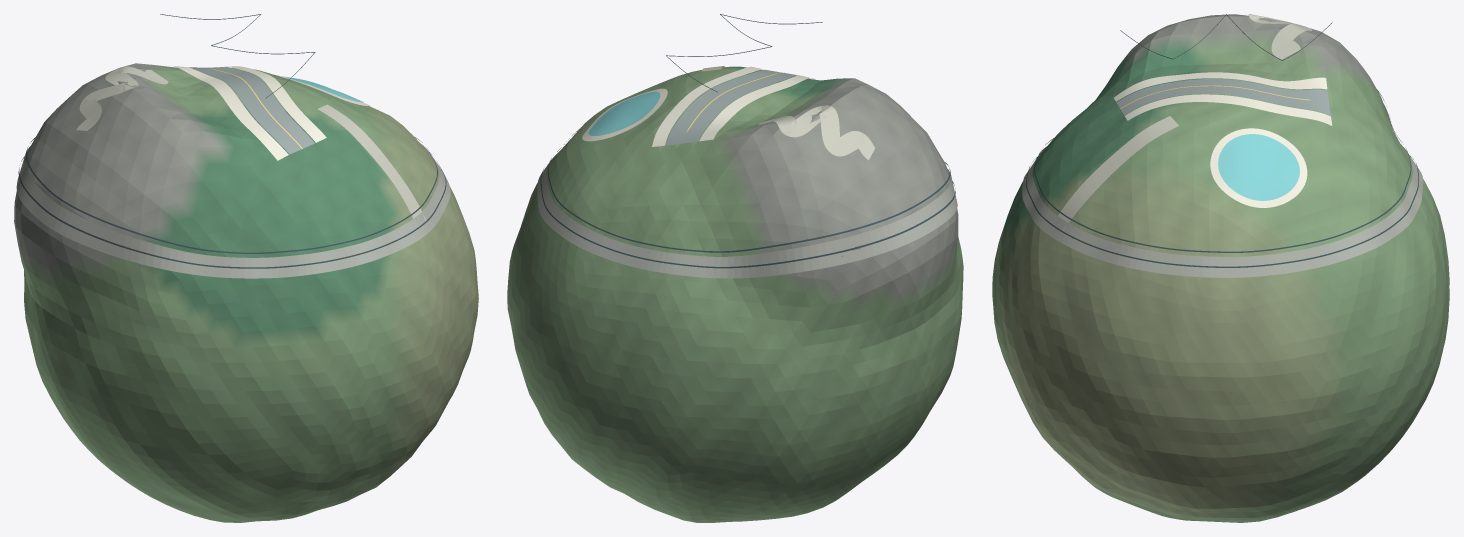
Rendered from nimbu_planet.glb.
3 renders of one model, left to right at view 1: azimuth 30°, elevation 25°; view 2: azimuth 150°, elevation 25°; view 3: azimuth 270°, elevation 25°, orthographic.
Parts seen in each view (by area): view 1: Nimbu_Nagar_Painterly_Planet, Rail_ballast, Neem_Lane, Devgarh_switchbacks, Station_Road, Neem_Lane_sidewalk_-1, Neem_Lane_sidewalk_1, Rail_left, Rail_right; view 2: Nimbu_Nagar_Painterly_Planet, Rail_ballast, Neem_Lane, Devgarh_switchbacks, Neel_Taal_water, Neem_Lane_sidewalk_1, Neem_Lane_sidewalk_-1, Rail_right, Rail_left, Neel_Taal_shore; view 3: Nimbu_Nagar_Painterly_Planet, Rail_ballast, Neel_Taal_water, Neem_Lane, Station_Road, Neel_Taal_shore, Neem_Lane_sidewalk_1, Neem_Lane_sidewalk_-1, Devgarh_switchbacks, Rail_left, Rail_right.
Part boxes in pixels (x1,y1,x2,y2): Nimbu_Nagar_Painterly_Planet: (14, 63, 478, 522); Rail_ballast: (16, 144, 450, 278); Neem_Lane: (188, 67, 314, 154); Devgarh_switchbacks: (76, 66, 168, 130); Station_Road: (318, 104, 426, 222); Neem_Lane_sidewalk_-1: (173, 66, 288, 160); Neem_Lane_sidewalk_1: (220, 66, 326, 142); Rail_left: (18, 153, 446, 268); Rail_right: (26, 137, 437, 253); Nimbu_Nagar_Painterly_Planet: (507, 66, 963, 522); Rail_ballast: (537, 139, 957, 278); Neem_Lane: (666, 70, 799, 145); Devgarh_switchbacks: (758, 105, 875, 160); Neel_Taal_water: (588, 91, 660, 135); Neem_Lane_sidewalk_1: (652, 66, 765, 146); Neem_Lane_sidewalk_-1: (699, 75, 815, 141); Rail_right: (548, 129, 950, 252); Rail_left: (540, 169, 955, 268); Neel_Taal_shore: (582, 88, 667, 141); Nimbu_Nagar_Painterly_Planet: (992, 14, 1449, 522); Rail_ballast: (1022, 103, 1423, 277); Neel_Taal_water: (1218, 134, 1299, 200); Neem_Lane: (1116, 79, 1330, 115); Station_Road: (1058, 116, 1178, 232); Neel_Taal_shore: (1210, 128, 1307, 207); Neem_Lane_sidewalk_1: (1125, 94, 1332, 125); Neem_Lane_sidewalk_-1: (1114, 72, 1327, 101); Devgarh_switchbacks: (1248, 14, 1312, 59); Rail_left: (1026, 125, 1418, 267); Rail_right: (1034, 89, 1411, 252).
Size of the model in its own units: 37.21 by 40.88 by 36.02.
